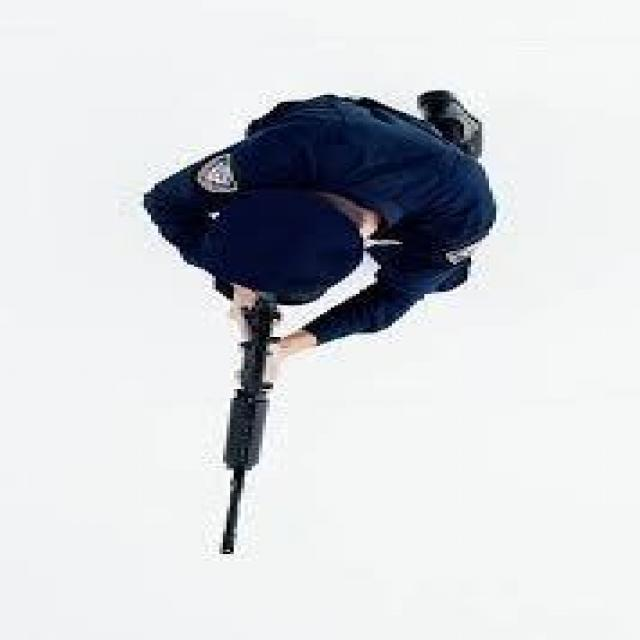gun: (225, 289, 280, 461)
